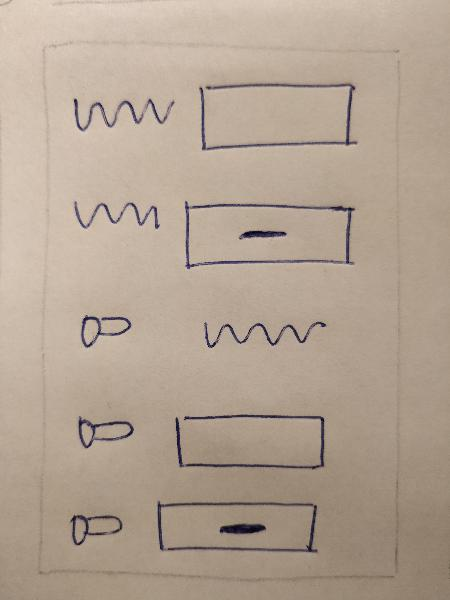button: (181, 195, 361, 275), (154, 495, 323, 563)
switch: (70, 308, 141, 356), (71, 411, 143, 457), (67, 505, 124, 550)
text: (188, 306, 333, 359), (64, 84, 175, 140), (62, 191, 175, 246)
text_input: (192, 75, 363, 159), (167, 405, 334, 480)
